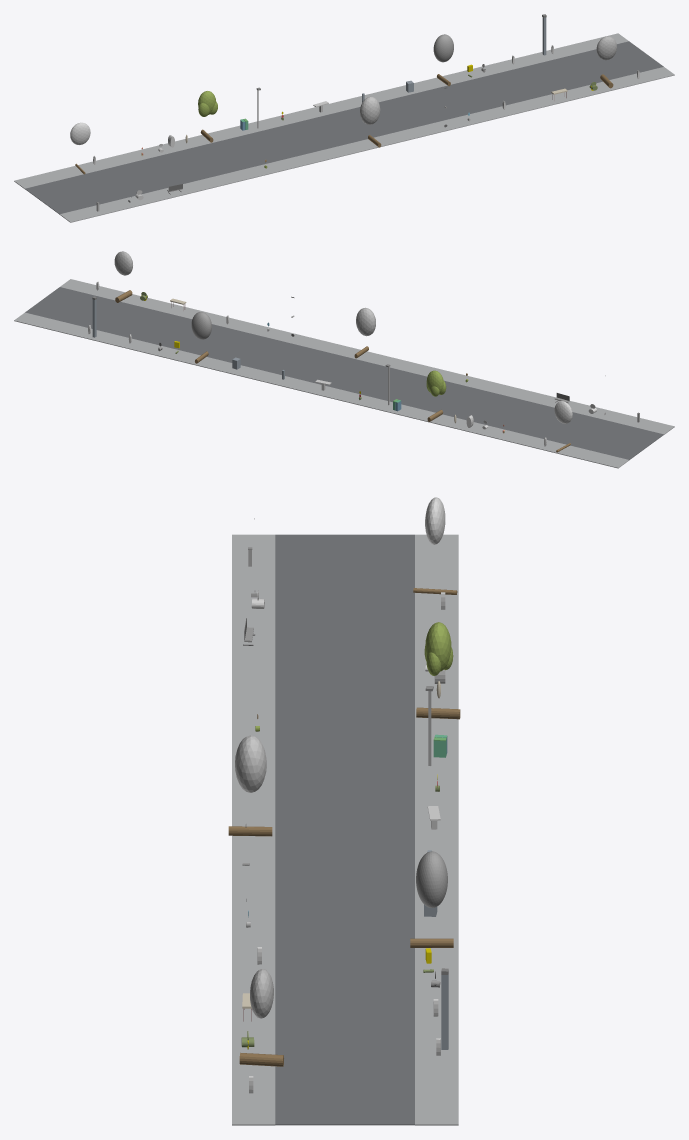
3 views of the same model, one above another, from view 1: azimuth 30°, elevation 25°; view 2: azimuth 150°, elevation 25°; view 3: azimuth 270°, elevation 25° (orthographic). The views are drawn at different scales.
Parts seen in each view (by area): view 1: road_slab, sidewalk_left, sidewalk_right, inst_0014, inst_0015, inst_0013, inst_0016, inst_0012; view 2: road_slab, sidewalk_right, sidewalk_left, inst_0014, inst_0015, inst_0013, inst_0016, inst_0012; view 3: road_slab, sidewalk_left, sidewalk_right, inst_0014, inst_0015, inst_0013, inst_0016, inst_0012.
Part boxes in pixels (x1=…): road_slab: x1=25, y1=41, x2=663, y2=214; sidewalk_left: x1=59, y1=67, x2=674, y2=222; sidewalk_right: x1=14, y1=33, x2=628, y2=188; inst_0014: x1=360, y1=96, x2=381, y2=147; inst_0015: x1=433, y1=34, x2=453, y2=86; inst_0013: x1=198, y1=91, x2=217, y2=142; inst_0016: x1=596, y1=36, x2=616, y2=88; inst_0012: x1=70, y1=122, x2=90, y2=174; road_slab: x1=25, y1=287, x2=663, y2=459; sidewalk_right: x1=14, y1=312, x2=629, y2=468; sidewalk_left: x1=60, y1=279, x2=674, y2=434; inst_0014: x1=354, y1=307, x2=375, y2=358; inst_0015: x1=191, y1=312, x2=211, y2=363; inst_0013: x1=426, y1=370, x2=446, y2=421; inst_0016: x1=114, y1=251, x2=132, y2=302; inst_0012: x1=554, y1=401, x2=572, y2=452; road_slab: x1=275, y1=534, x2=414, y2=1125; sidewalk_left: x1=232, y1=534, x2=275, y2=1125; sidewalk_right: x1=415, y1=534, x2=458, y2=1125; inst_0014: x1=228, y1=735, x2=272, y2=836; inst_0015: x1=410, y1=851, x2=453, y2=947; inst_0013: x1=416, y1=622, x2=460, y2=719; inst_0016: x1=239, y1=969, x2=283, y2=1066; inst_0012: x1=413, y1=497, x2=457, y2=594.
Size of the model in its own units: 80 by 6.08 by 13.29.
